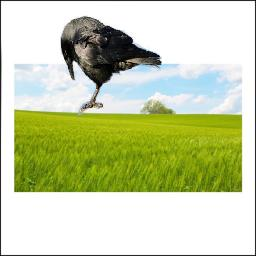Crow: (60, 16, 162, 117)
